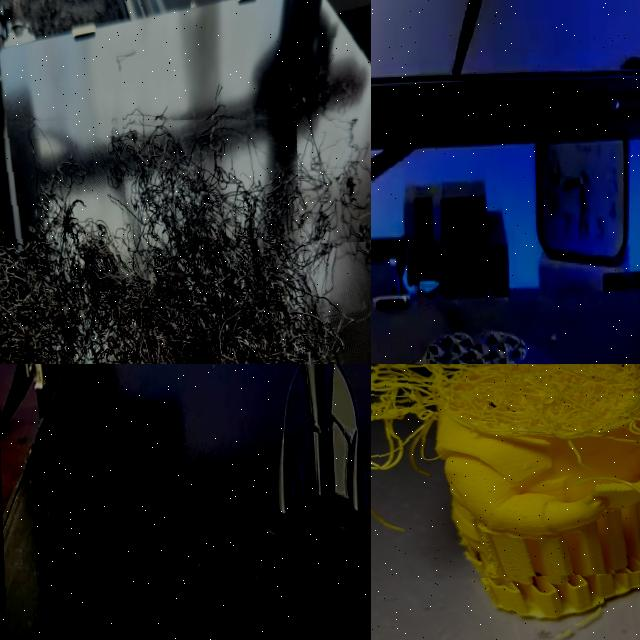spaghetti: (0, 117, 371, 364), (371, 364, 640, 583), (299, 37, 371, 244)
